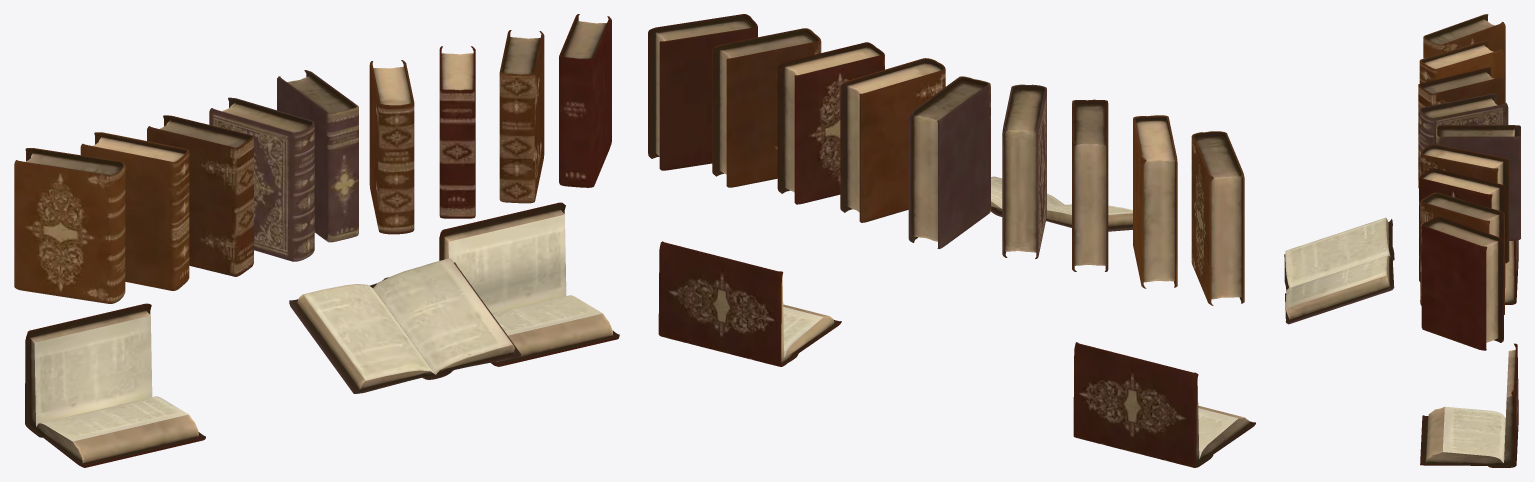
Rendered from vict_old_books___free_download.glb.
3 views of the same model, side by side, from view 1: azimuth 30°, elevation 25°; view 2: azimuth 150°, elevation 25°; view 3: azimuth 270°, elevation 25° (orthographic). The views are drawn at different scales.
Parts seen in each view (by area): view 1: defaultMaterial; view 2: defaultMaterial; view 3: defaultMaterial.
Part boxes in pixels (x1=…): defaultMaterial: x1=14, y1=14, x2=619, y2=467; defaultMaterial: x1=648, y1=14, x2=1255, y2=467; defaultMaterial: x1=1284, y1=14, x2=1520, y2=467.
Size of the model in its own units: 0.7 by 0.3223 by 0.298.
Materials: 1 (1 with a texture image).
